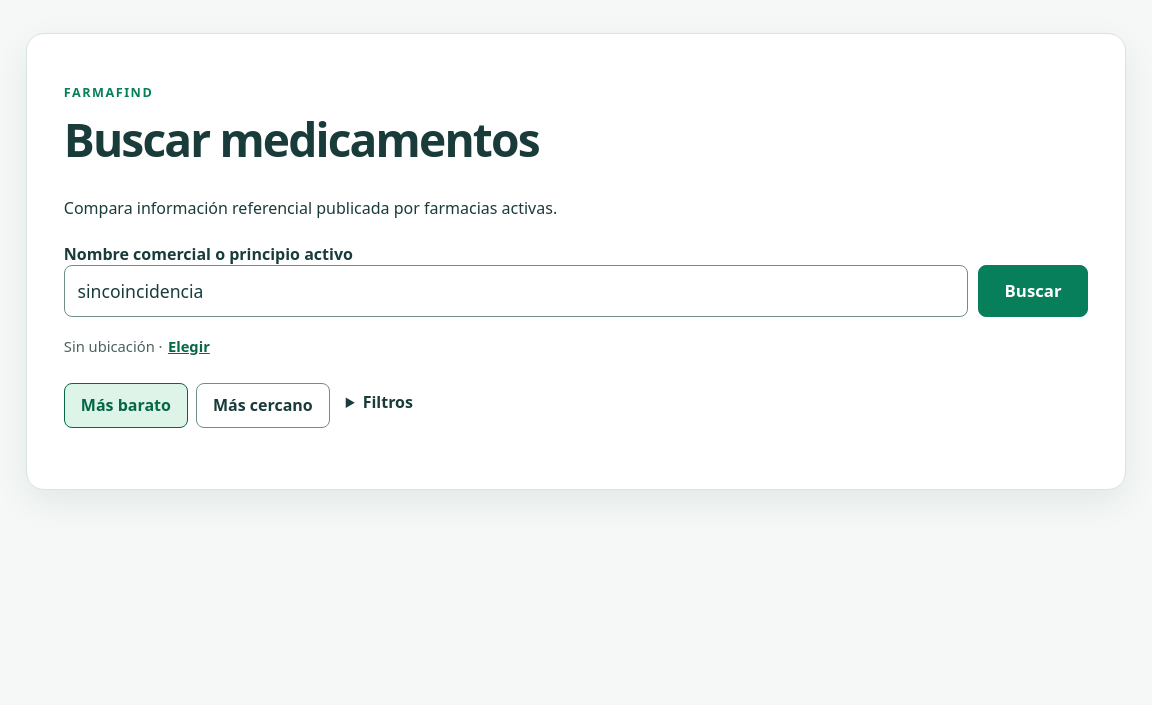
búsqueda F08 › compara solamente ofertas devueltas y no permite más de tres selecciones
Replace the text in the dropdown labelled "Nombre comercial o principio activo" with "producto" at (516, 290), box [64,264,968,316]
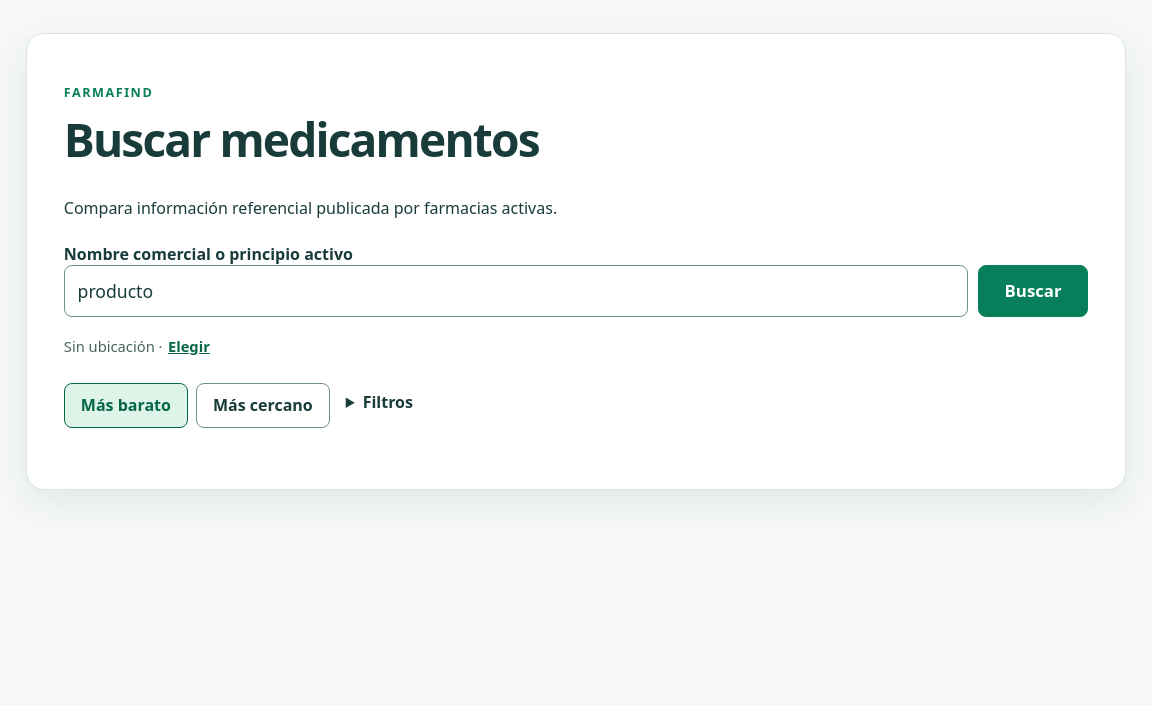
Click the button "Buscar" at (1033, 290), box [978,264,1088,316]
(page scrolled)
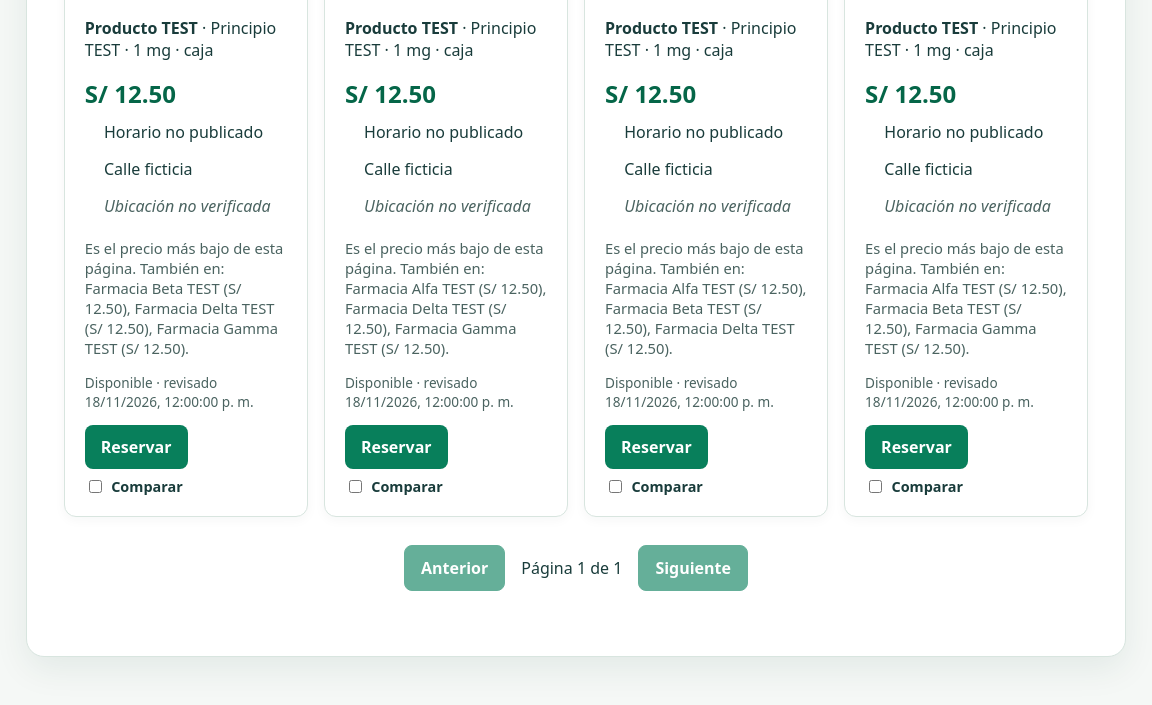
Now the number of checkboxes labelled "Comparar" is 4
Click the 1st checkbox labelled "Comparar" at (95, 486), box [89,480,102,493]
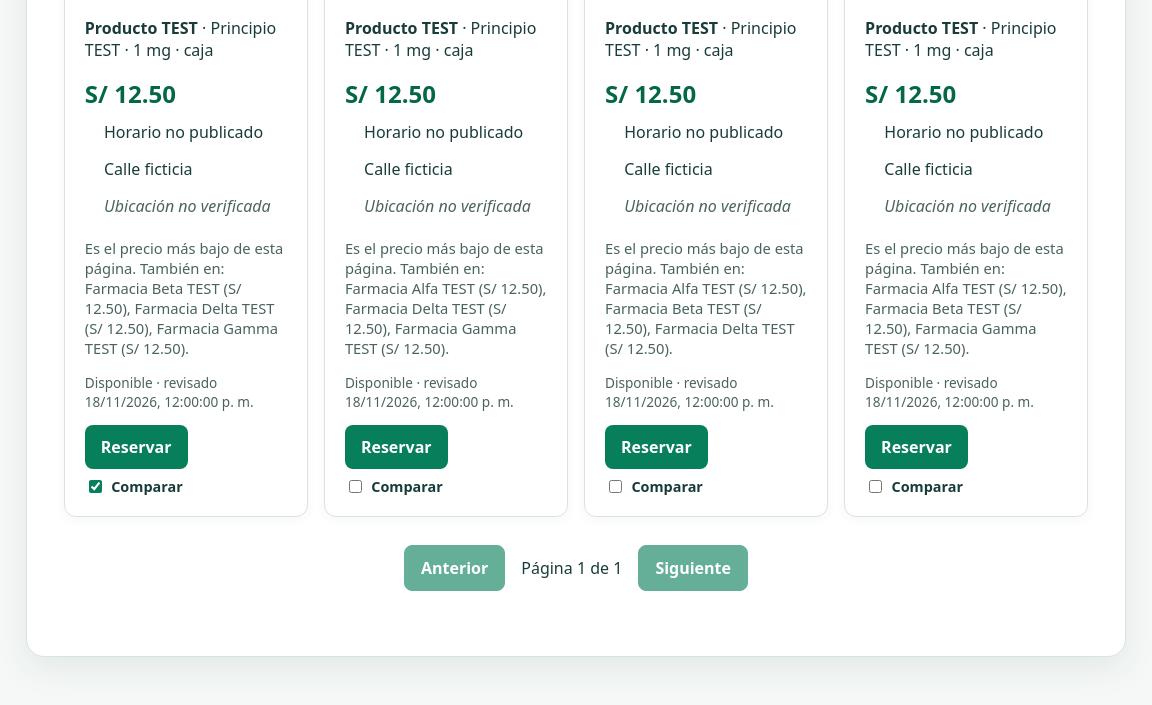
Click the 2nd checkbox labelled "Comparar" at (355, 486), box [349,480,362,493]
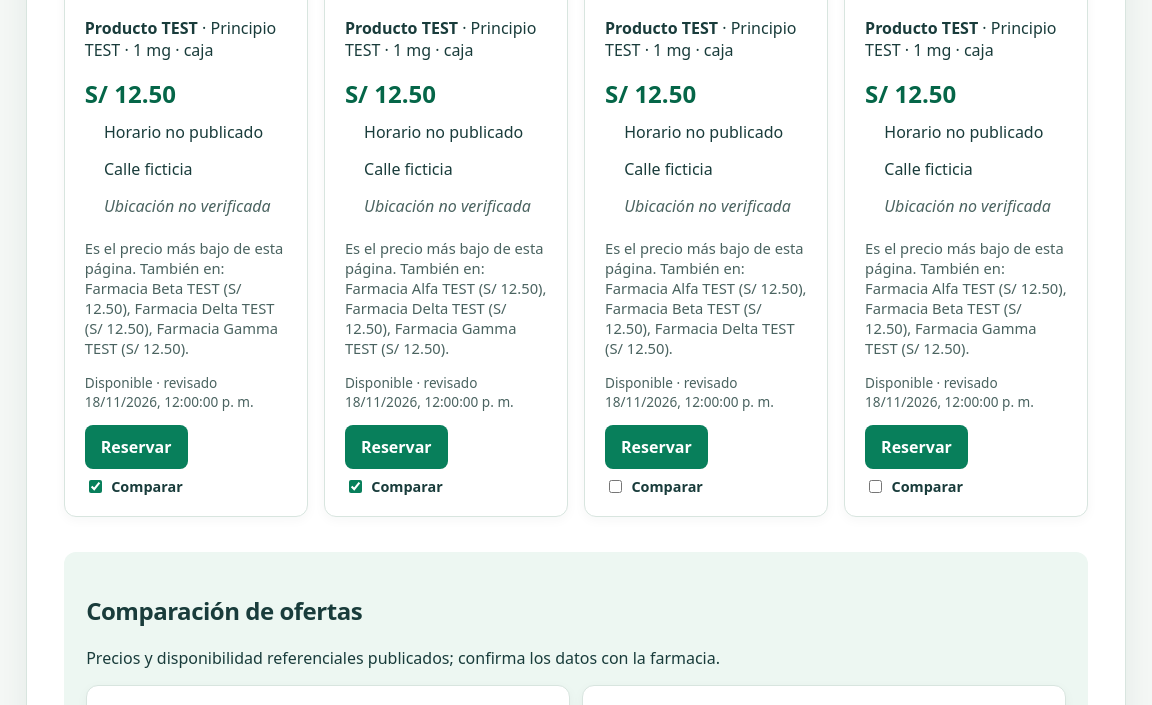
Click the 3rd checkbox labelled "Comparar" at (616, 486), box [609,480,622,493]
(page scrolled)
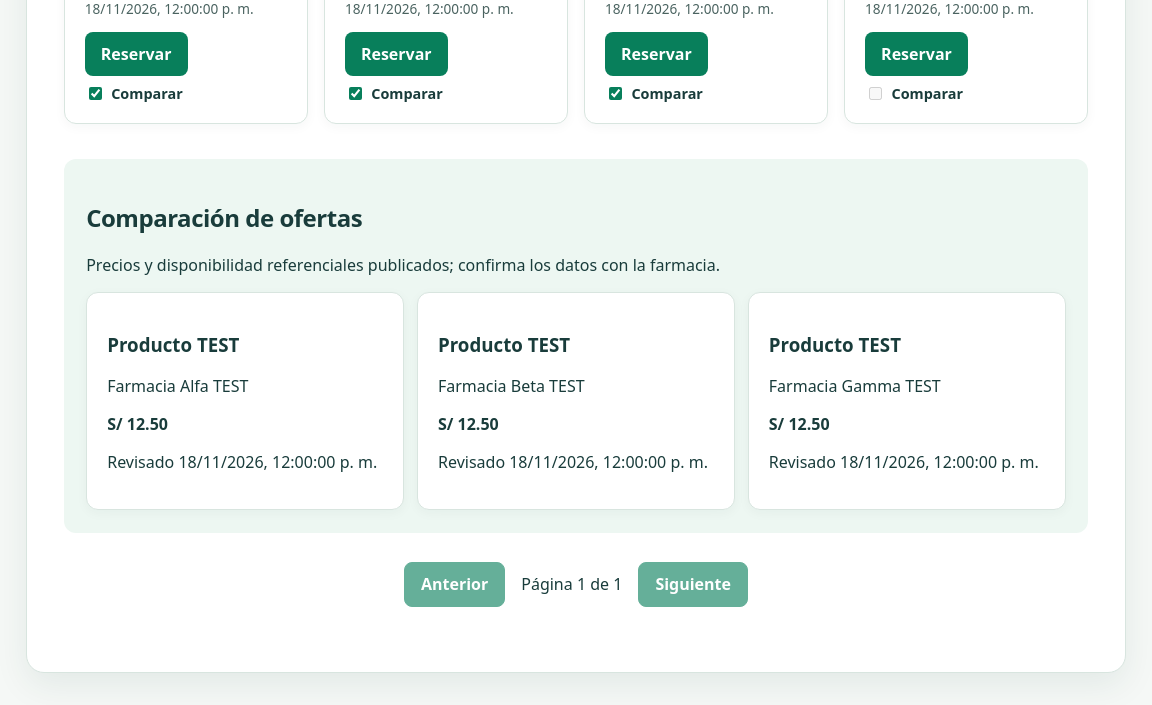
Now the element "Comparación de ofertas" is shown, box [64,159,1088,533]
Now the 4th checkbox labelled "Comparar" is disabled, box [869,87,882,100]
